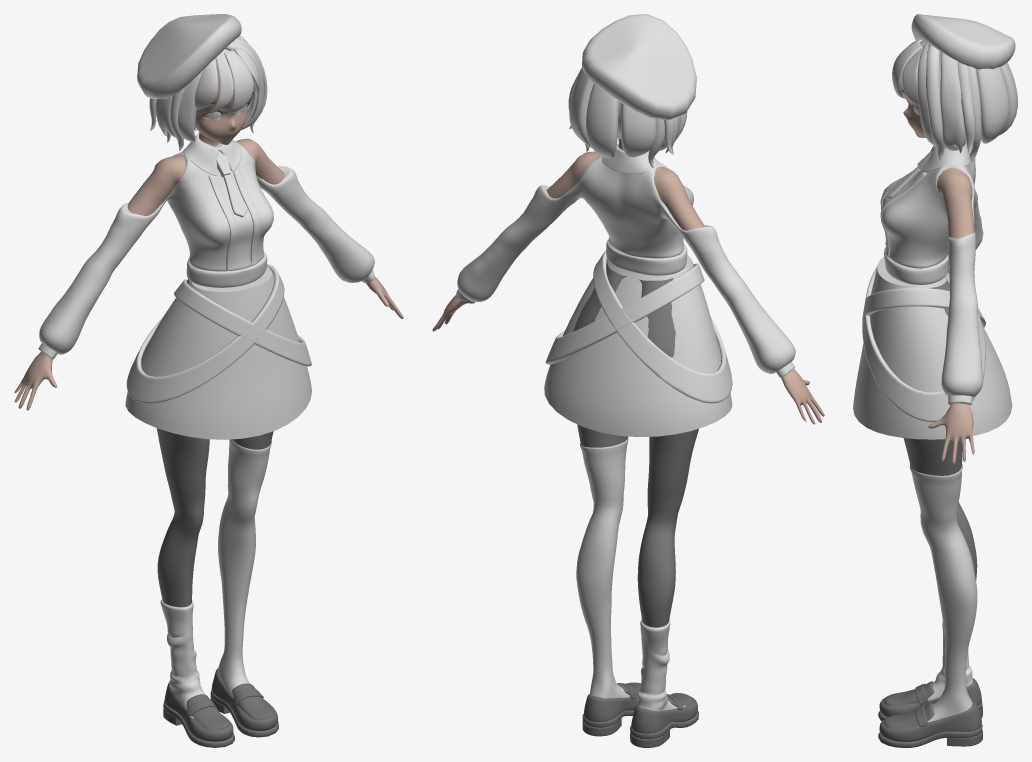
The picture shows the model from 3 angles, left to right: view 1: azimuth 30°, elevation 25°; view 2: azimuth 150°, elevation 25°; view 3: azimuth 270°, elevation 25°; orthographic projection.
Parts seen in each view (by area): view 1: upper_body, skirt, head, Object002, lower_body, shoes, Object001; view 2: skirt, upper_body, head, lower_body, Object002, shoes, Object001; view 3: upper_body, skirt, head, Object002, shoes, lower_body, Object001.
Part boxes in pixels (x1,y1,x2,y2): upper_body: [14, 132, 403, 410]; skirt: [125, 264, 311, 439]; head: [137, 14, 267, 150]; Object002: [218, 439, 271, 697]; lower_body: [156, 279, 273, 607]; shoes: [163, 668, 278, 747]; Object001: [160, 599, 204, 718]; skirt: [544, 250, 732, 436]; upper_body: [432, 138, 824, 424]; head: [568, 14, 696, 168]; lower_body: [573, 263, 698, 627]; Object002: [576, 437, 630, 698]; shoes: [582, 682, 698, 747]; Object001: [637, 619, 685, 711]; upper_body: [880, 139, 983, 464]; skirt: [853, 256, 1012, 439]; head: [892, 14, 1017, 162]; Object002: [909, 463, 977, 722]; shoes: [878, 678, 982, 747]; lower_body: [903, 266, 977, 580]; Object001: [928, 621, 972, 700].
Bounding box in the file's own units: 21.58 × 37.83 × 7.95.
